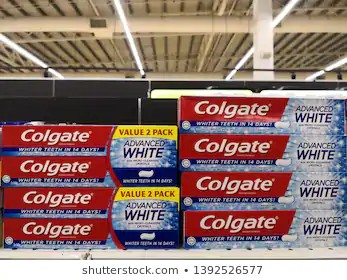colgate-family: (1, 126, 181, 188), (3, 187, 182, 249)
colgate-medium: (176, 97, 344, 138), (180, 135, 344, 177), (180, 210, 347, 250), (179, 171, 346, 210)
